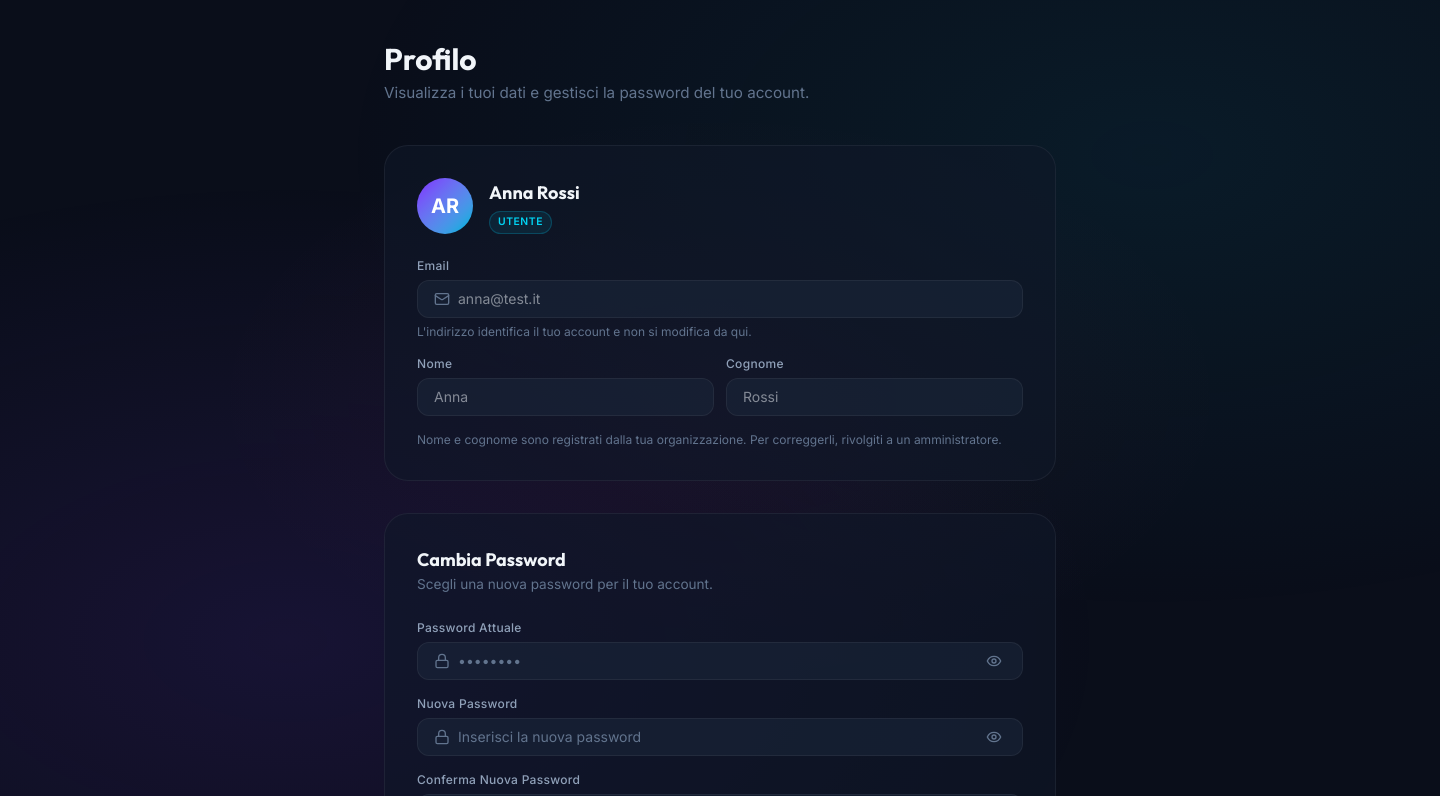
Test: cambio password › cambia la password e svuota i campi
This screenshot has width=1440, height=796.
Type "Vecchia-1!" into the password field labelled "Password Attuale".
click(716, 661); type("Vecchia-1!")  # box [458,643,974,679]
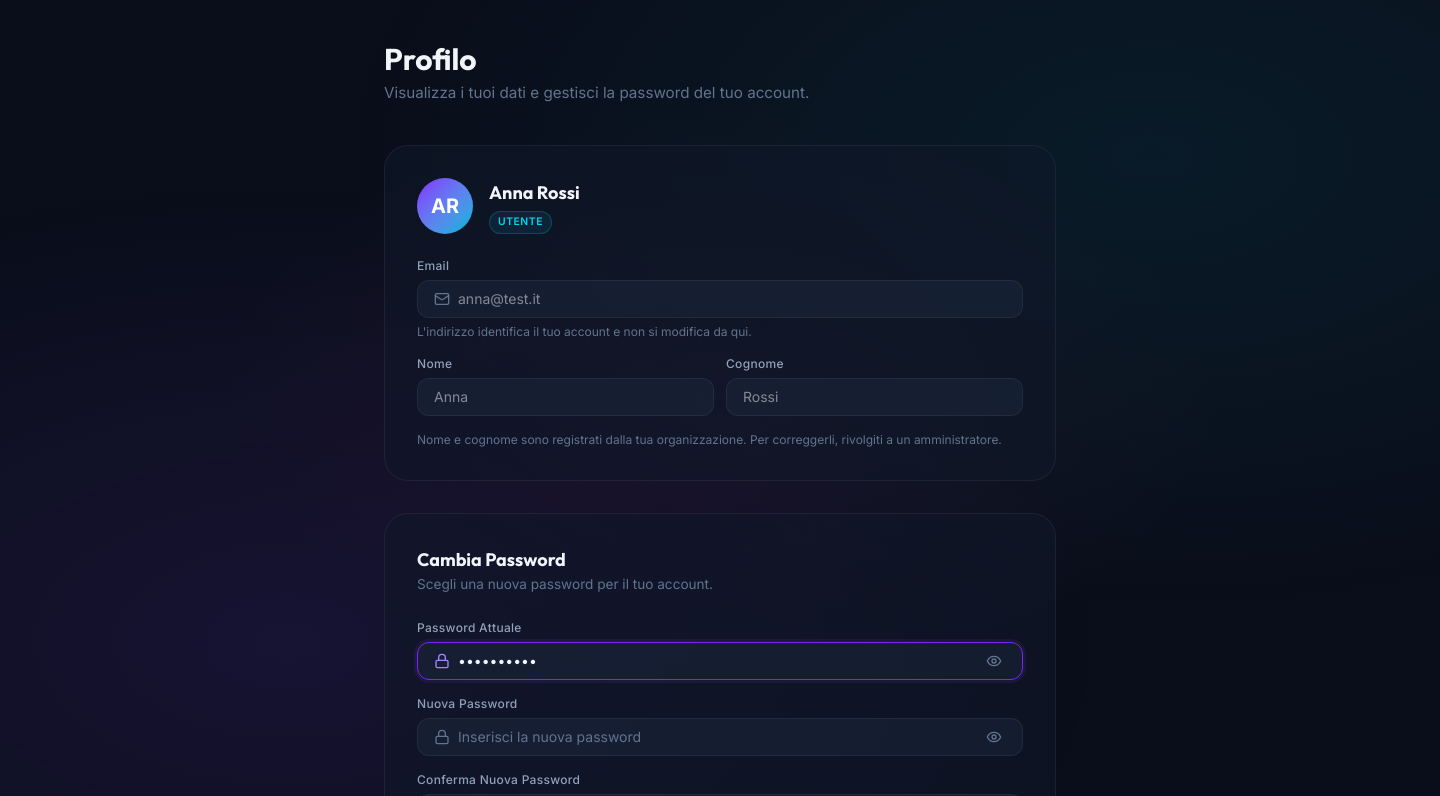
Type "Nuova-Lunga1!" into the password field labelled "Nuova Password".
click(716, 737); type("Nuova-Lunga1!")  # box [458,719,974,755]
(page scrolled)
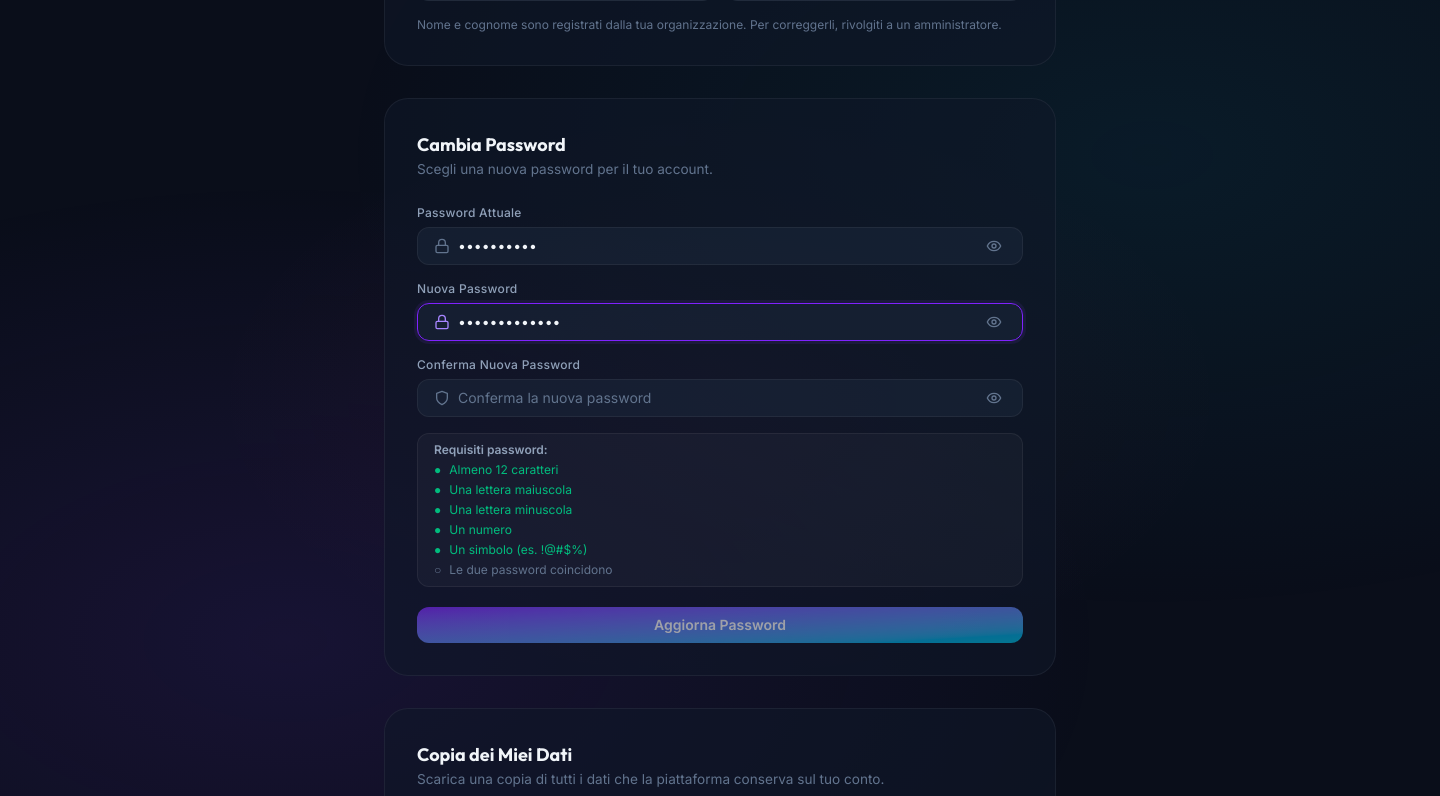
Type "Nuova-Lunga1!" into the password field labelled "Conferma Nuova Password".
click(716, 398); type("Nuova-Lunga1!")  # box [458,380,974,416]
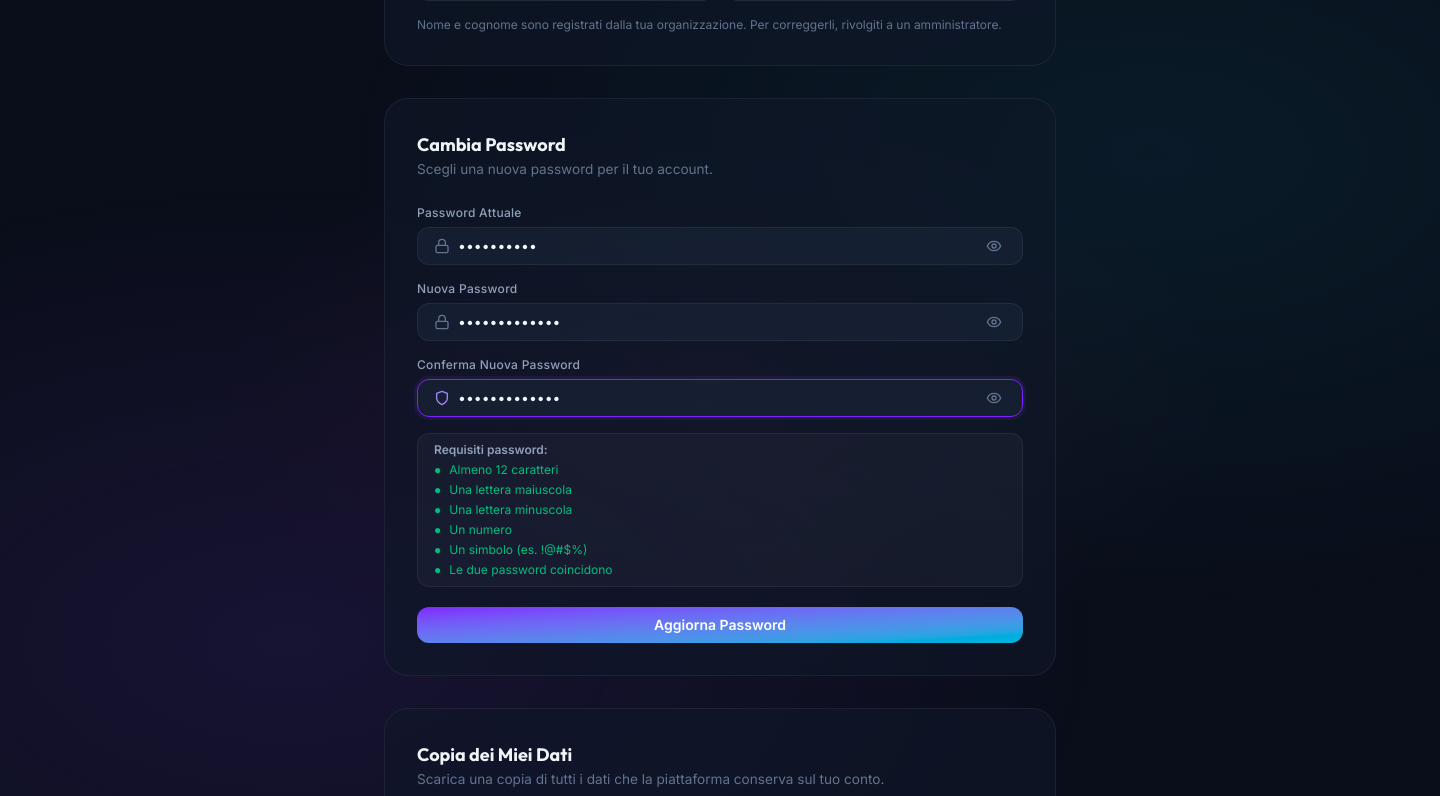
Click the button "Aggiorna Password".
click(720, 625)  # box [417,607,1023,643]
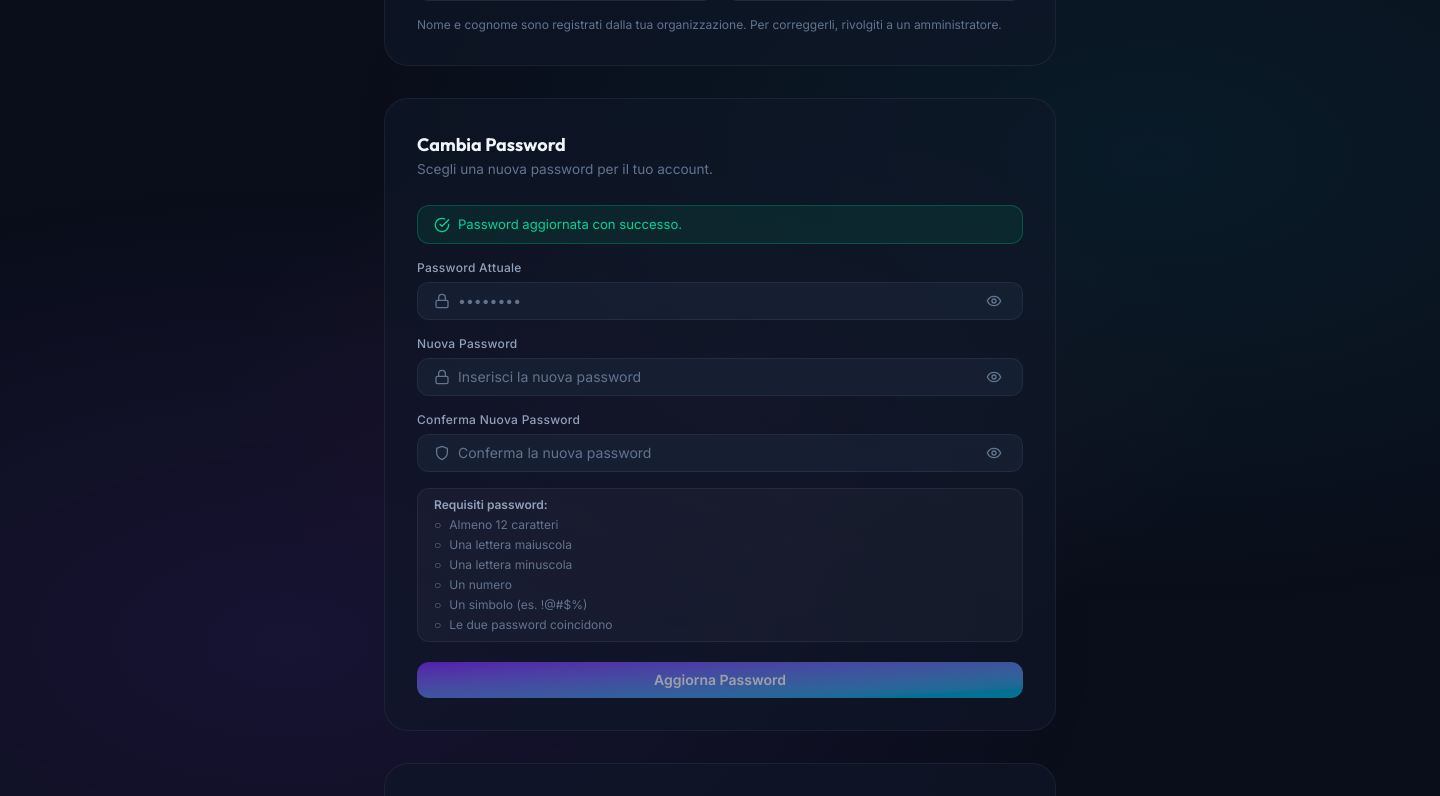
Check: the text "Password aggiornata con successo." is shown, box [458,214,682,235]
Check: the password field labelled "Password Attuale" is empty, box [458,283,974,319]
Check: the password field labelled "Nuova Password" is empty, box [458,359,974,395]
